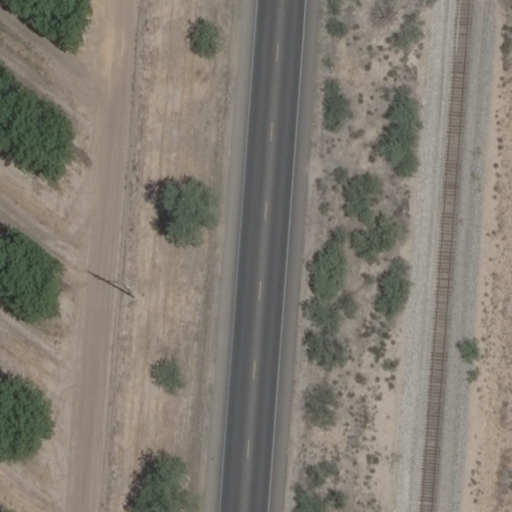DT: (117, 281, 137, 303)
